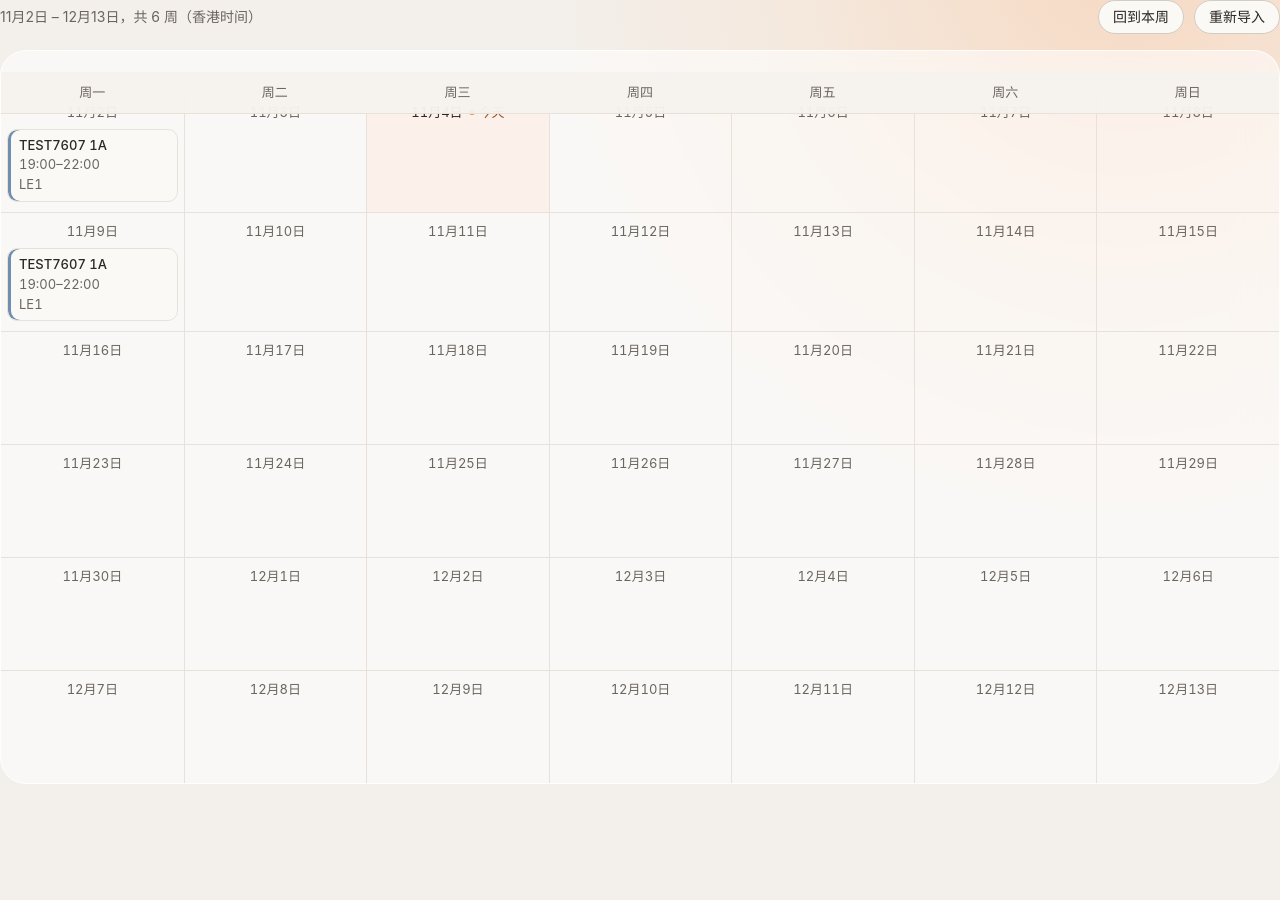
Test: shows the whole semester as one long calendar
expect the button "回到本周" is shown: met, box [1098, 0, 1184, 34]
expect the text "今天" is shown: met, box [469, 104, 505, 120]
What coordinates should you click on to do the following:
click the button "TEST7607 1A 19:00–22:00 LE1" below "11月3日"
I would click on:
 (92, 165)
Its box is [7, 129, 178, 202].
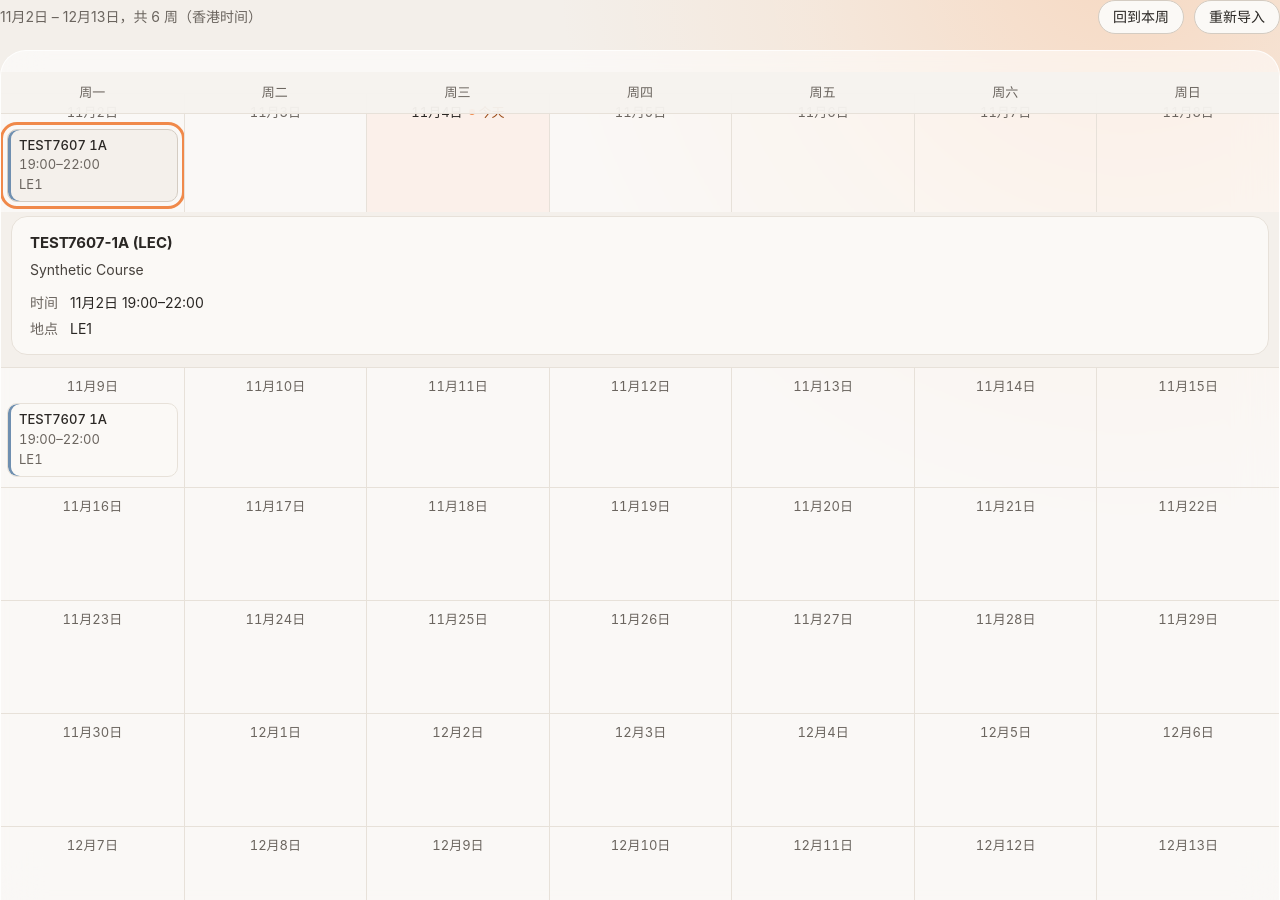
expect the element named "课程详情" shows "Synthetic Course": met, box [30, 261, 144, 278]
expect the element named "课程详情" shows "11月2日 19:00–22:00": met, box [11, 216, 1269, 355]
expect the number of rows is 8: met
